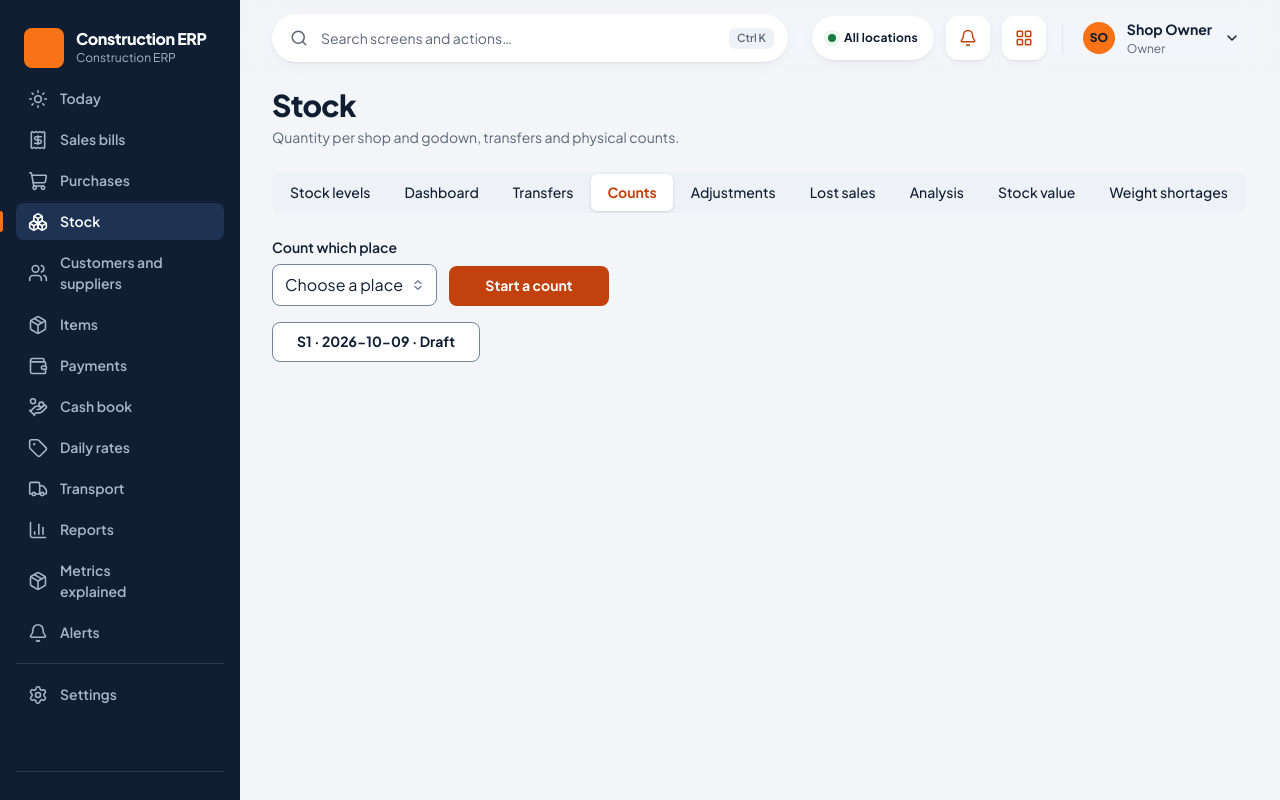
Scenario: Counts › lets the owner post a count only after a second confirmation
Click the button "S1 · 2026-10-09 · Draft" at (376,342), box top-left (272, 322), bottom-right (480, 362)
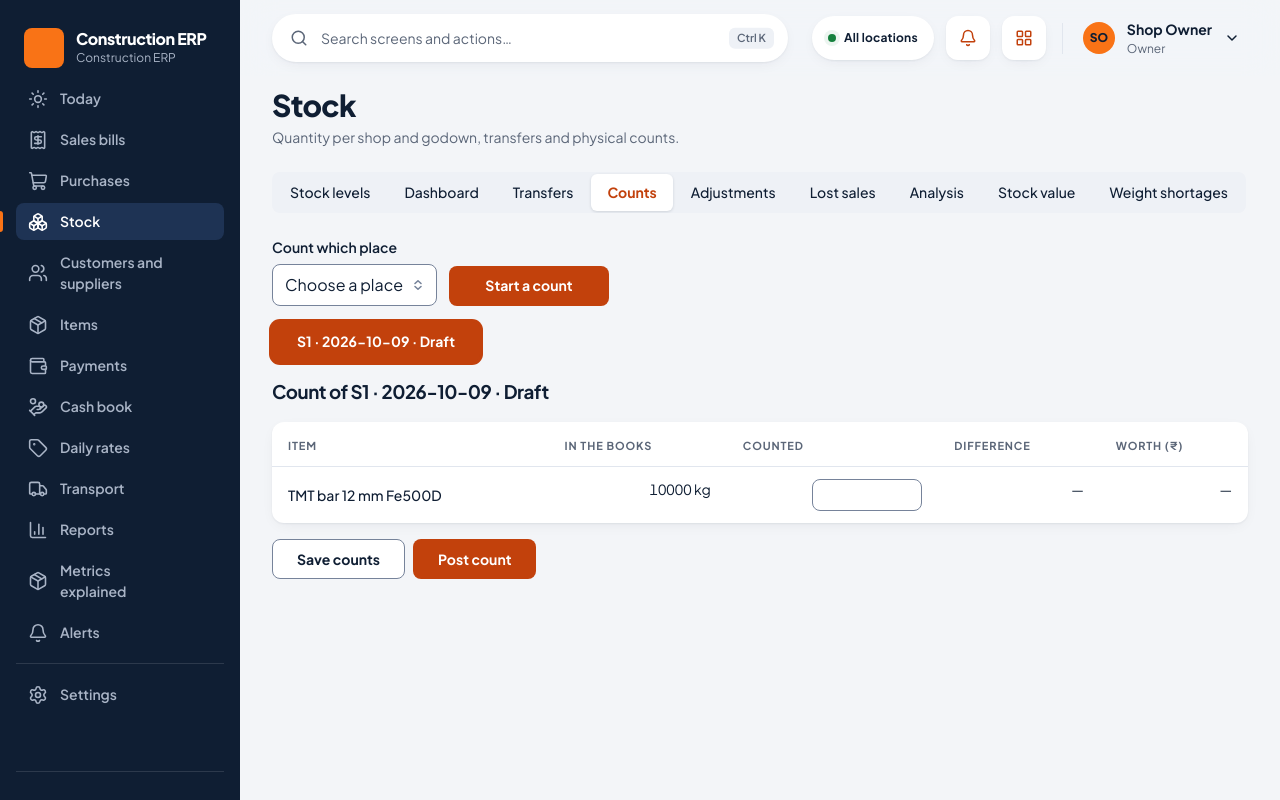
Type "9980" into the field named "Counted TMT bar 12 mm Fe500D" at (867,495), box top-left (812, 479), bottom-right (922, 511)
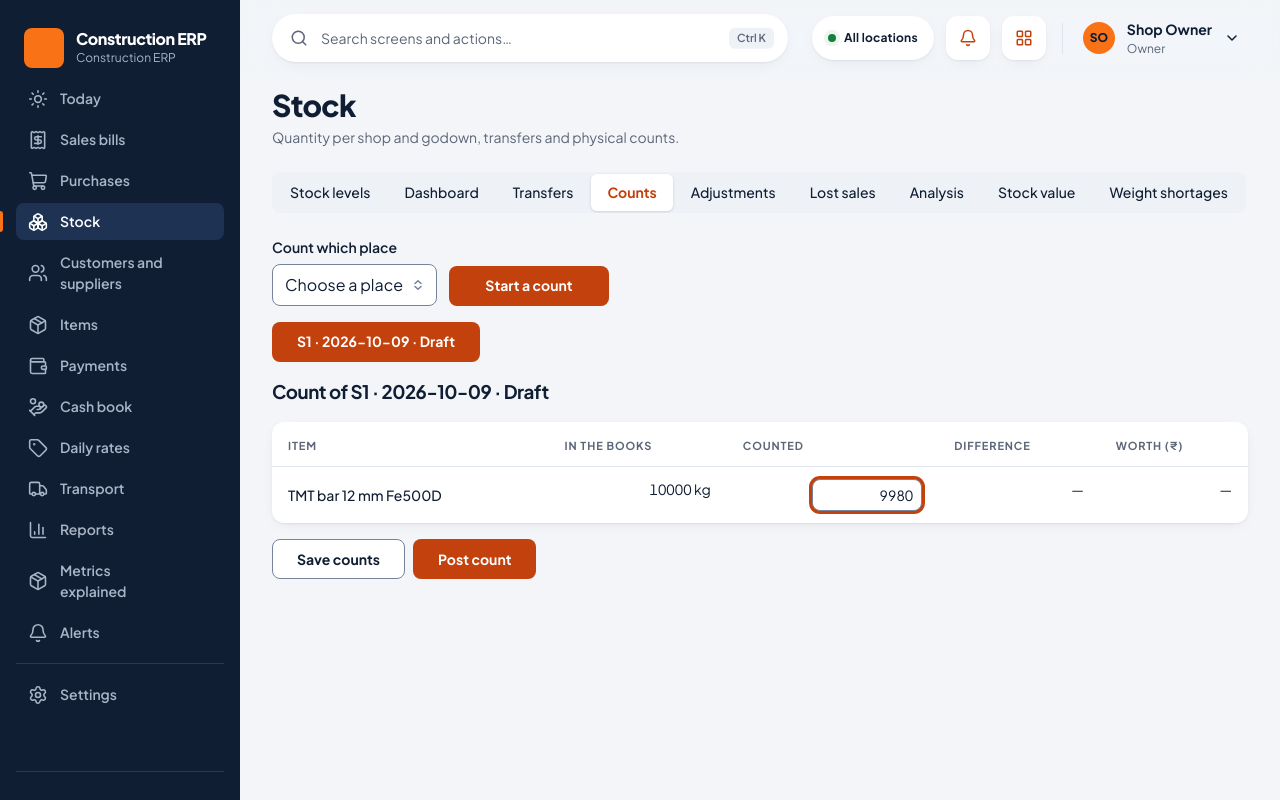
Click the button "Post count" at (475,559), box top-left (413, 539), bottom-right (536, 579)
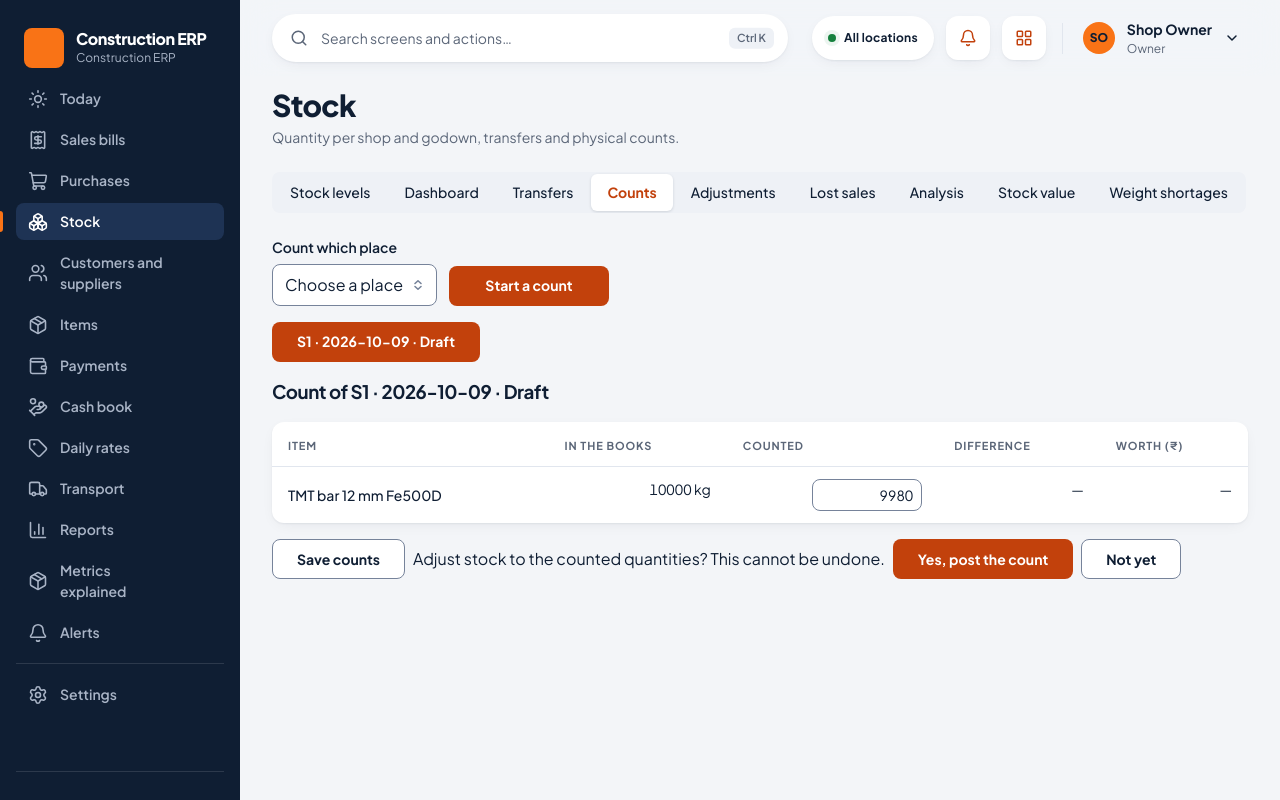
Click the button "Yes, post the count" at (983,559), box top-left (893, 539), bottom-right (1073, 579)
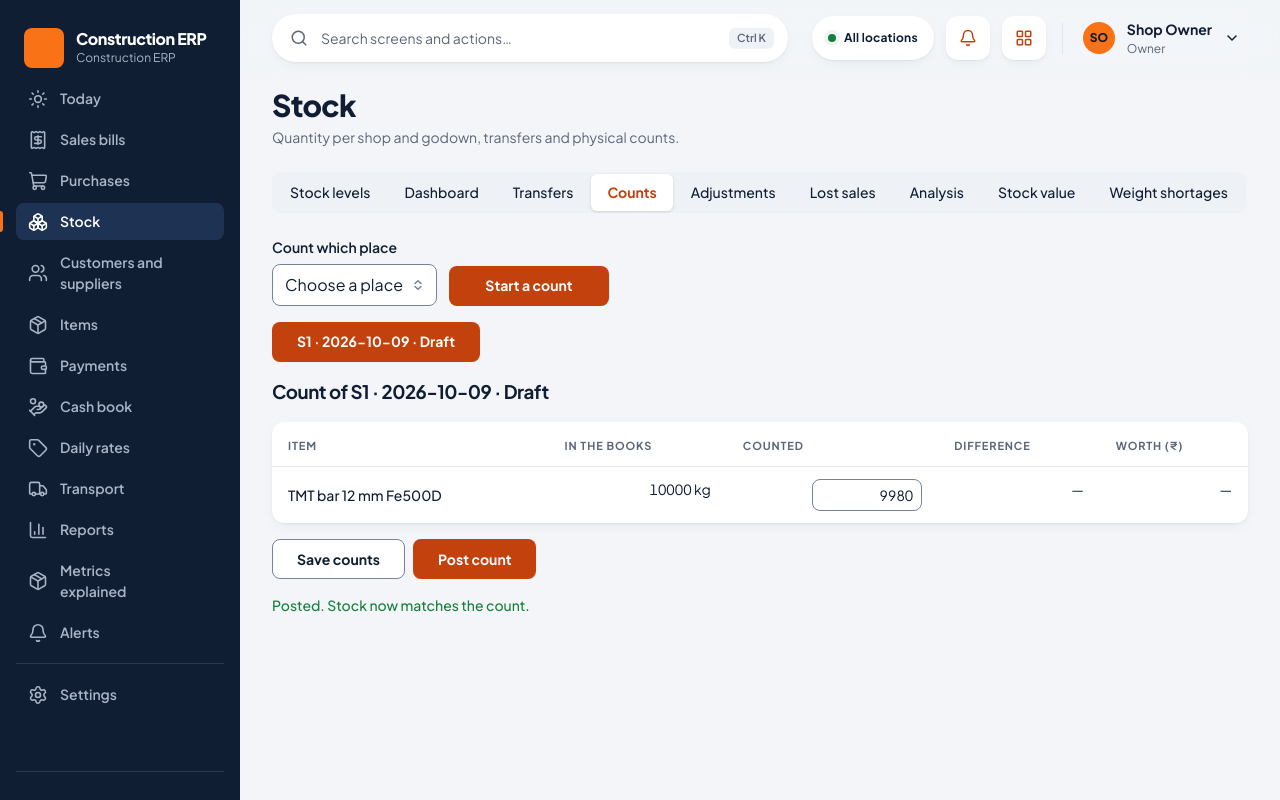
Check: the text "Posted. Stock now matches the count." is shown, box top-left (272, 596), bottom-right (530, 614)
